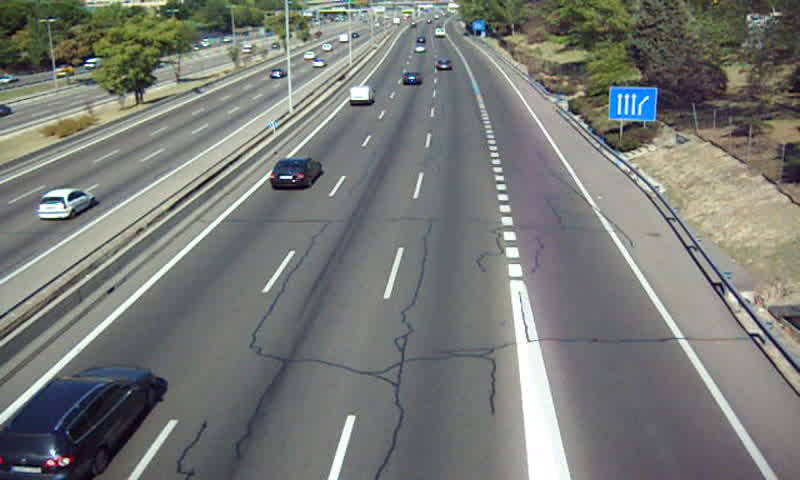car: (1, 365, 154, 480), (270, 158, 323, 187), (401, 71, 422, 87), (433, 58, 453, 73)
van: (349, 86, 373, 106)
